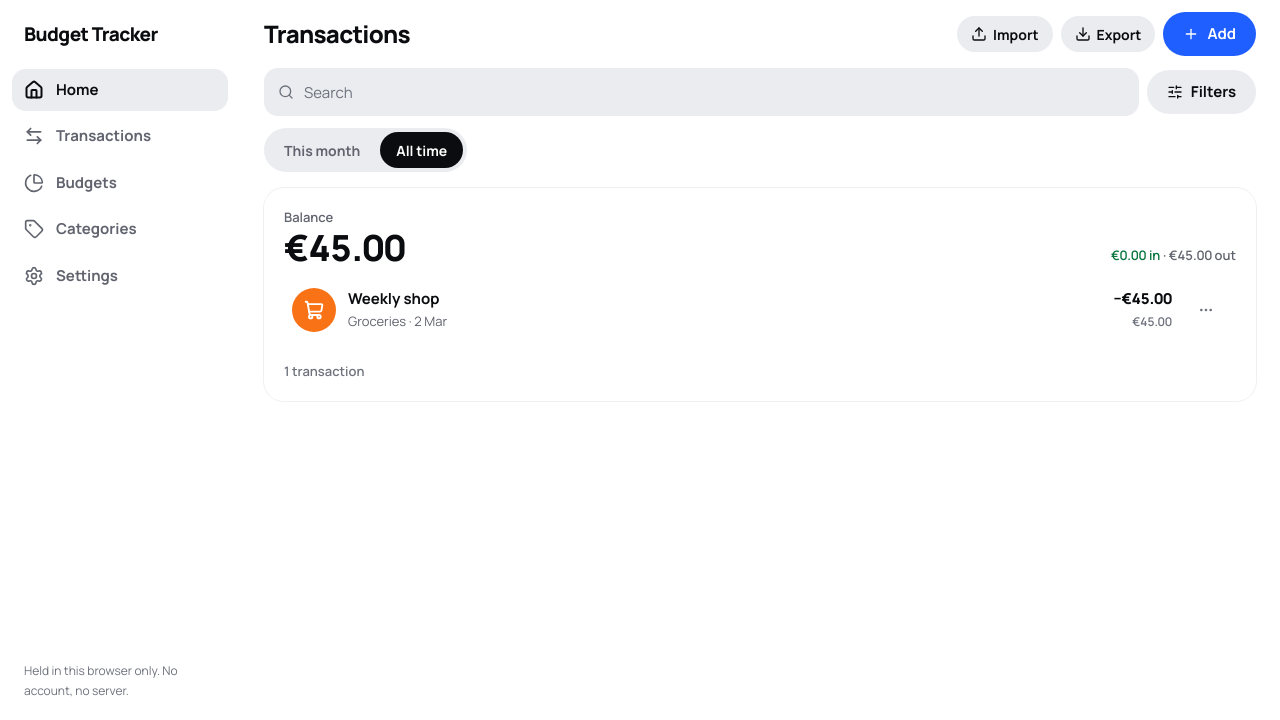
it: editing and deleting a transaction › deletes after confirming
Expected: the text "Weekly shop" is shown, x1=348 y1=288 x2=440 y2=308
Click the button named "actions for weekly shop".
click(1206, 310)  # box x1=1184 y1=288 x2=1228 y2=332
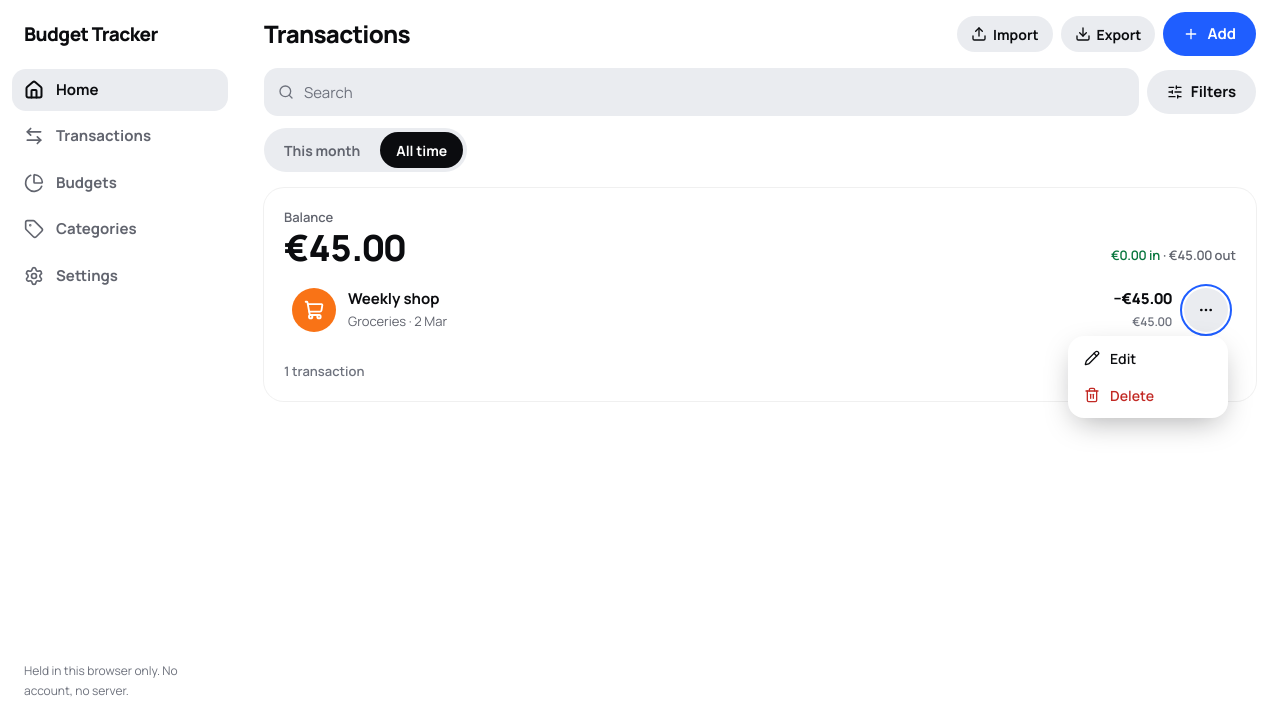
Click the menu item "Delete".
click(1148, 395)  # box x1=1072 y1=376 x2=1224 y2=414
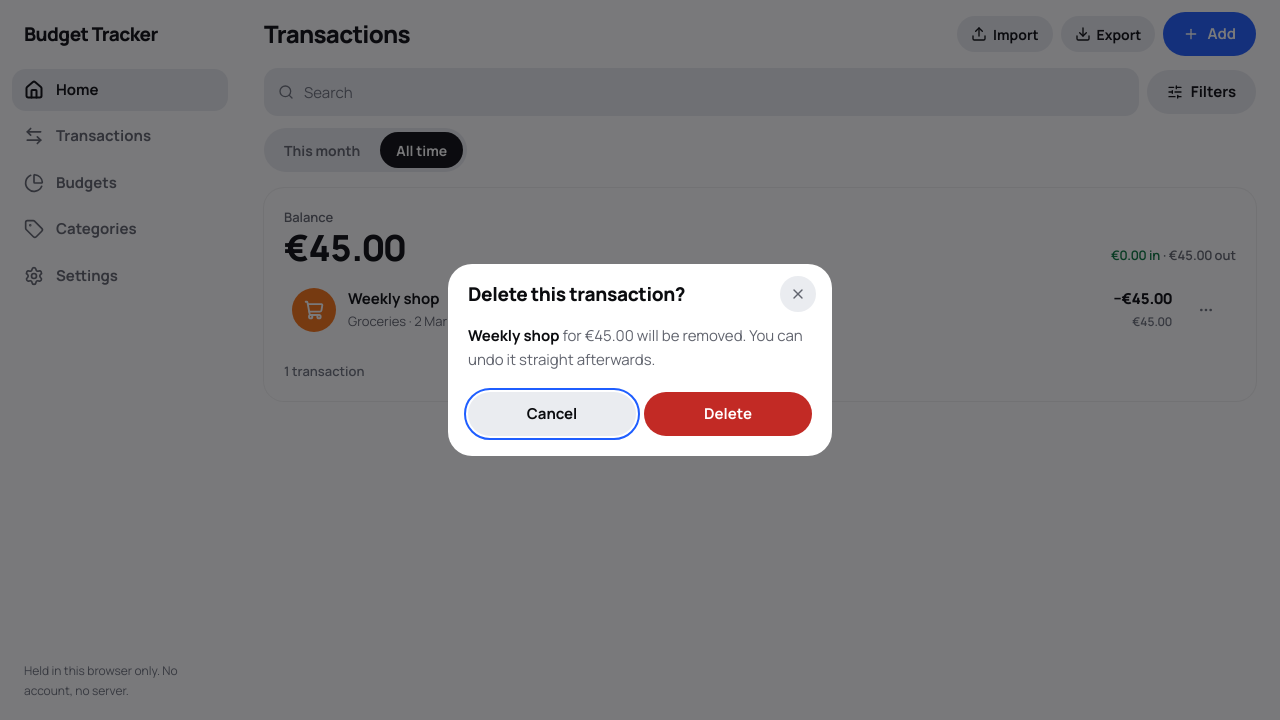
Click the button "Delete".
click(728, 414)  # box x1=644 y1=392 x2=812 y2=436
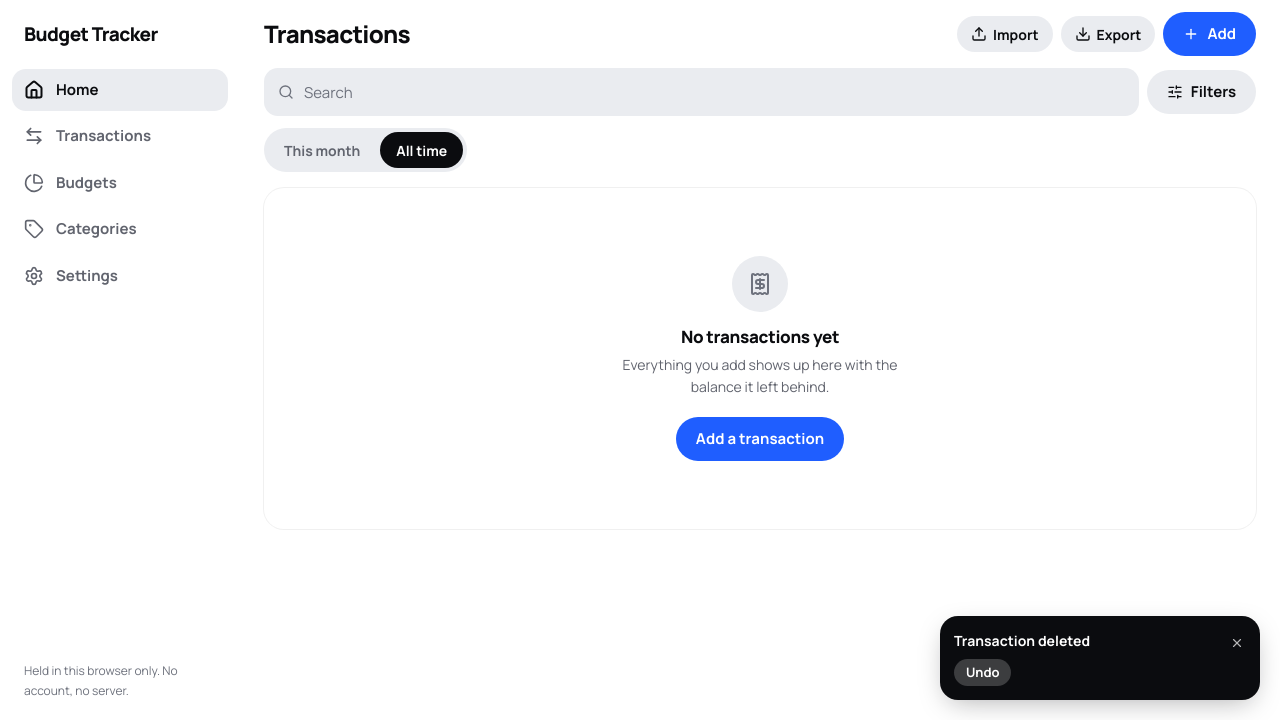
Expected: the text "Transaction deleted" is shown, x1=954 y1=630 x2=1090 y2=650
